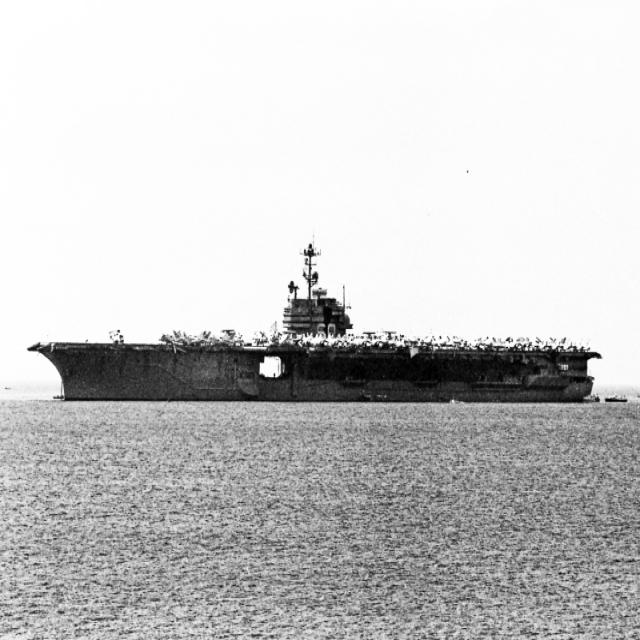Portanaves: (28, 218, 612, 406)
